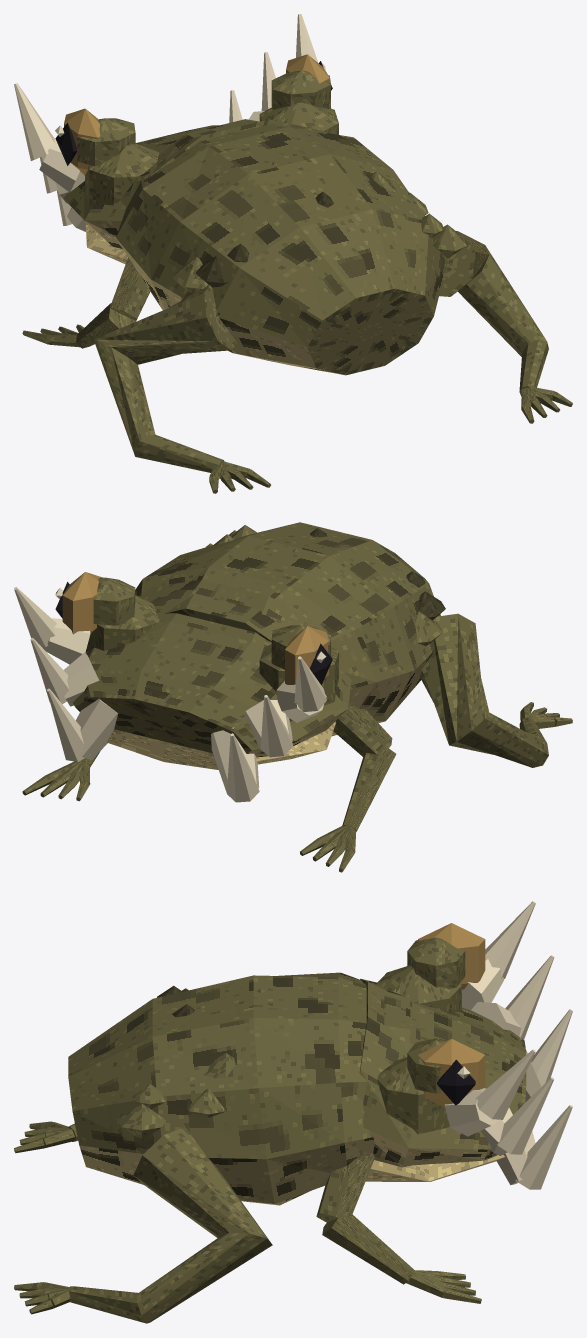
The model's file is mon_foul_giganfrog.glb.
3 renders of one model, top to bottom at view 1: azimuth 30°, elevation 25°; view 2: azimuth 150°, elevation 25°; view 3: azimuth 270°, elevation 25°, orthographic. The views are drawn at different scales.
Visible parts, largest first — view 1: closed_body; view 2: closed_body; view 3: closed_body.
Boxes of the visible parts, x1,y1,x2,y2 form: closed_body: (14,14,572,493); closed_body: (14,522,572,872); closed_body: (14,901,572,1323).
Size of the model in its own units: 1.59 by 0.8444 by 1.74.
Materials: 1 (1 with a texture image).
